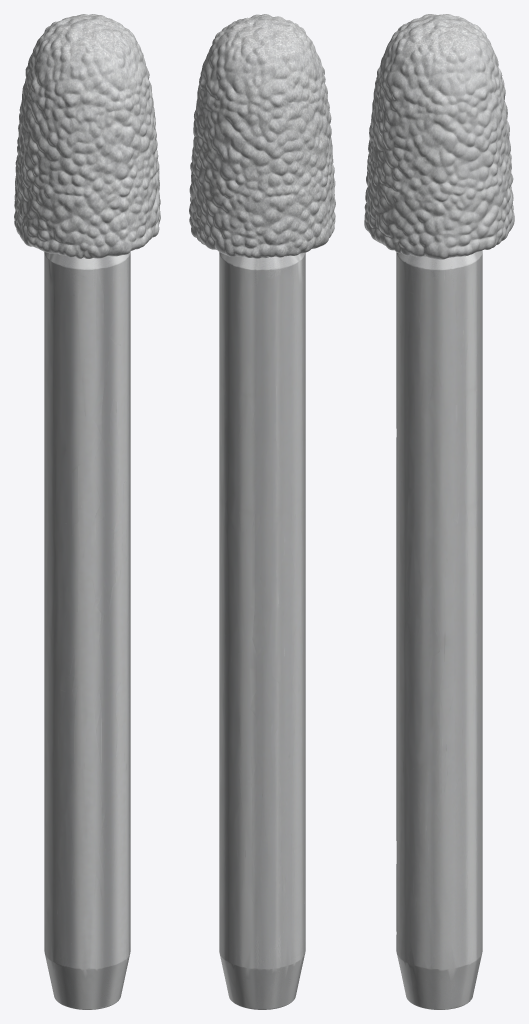
File: Meshy_AI_3131_0916223519_texture.fbx
The picture shows the model from 3 angles, left to right: view 1: azimuth 30°, elevation 25°; view 2: azimuth 150°, elevation 25°; view 3: azimuth 270°, elevation 25°; orthographic projection.
Parts seen in each view (by area): view 1: Mesh_0; view 2: Mesh_0; view 3: Mesh_0.
Part boxes in pixels (bbox=[...]): Mesh_0: bbox=[14, 14, 160, 1009]; Mesh_0: bbox=[189, 14, 335, 1009]; Mesh_0: bbox=[364, 14, 514, 1009].
Bounding box in the file's own units: 26.54 × 190 × 26.57.
1 material, 1 textured.
